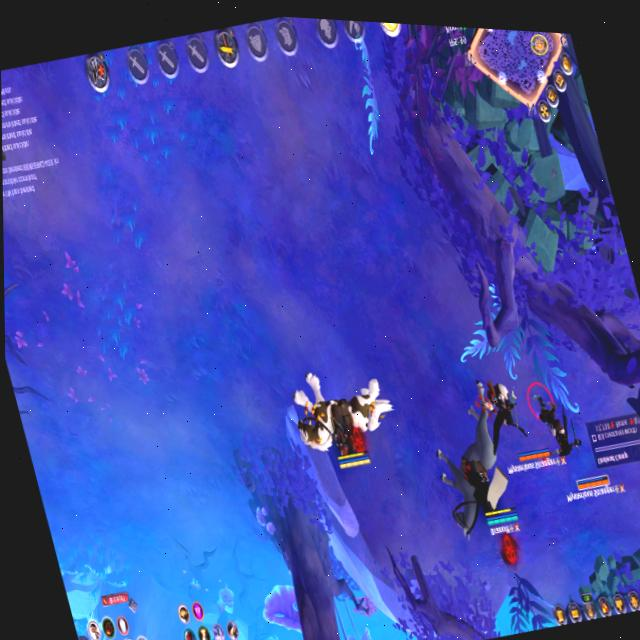ore: (2, 123, 34, 250)
red: (417, 372, 551, 571), (278, 344, 413, 493), (519, 362, 631, 519), (480, 364, 571, 488)
